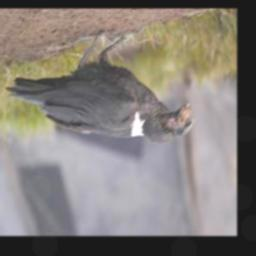Crow: (2, 26, 194, 148)
